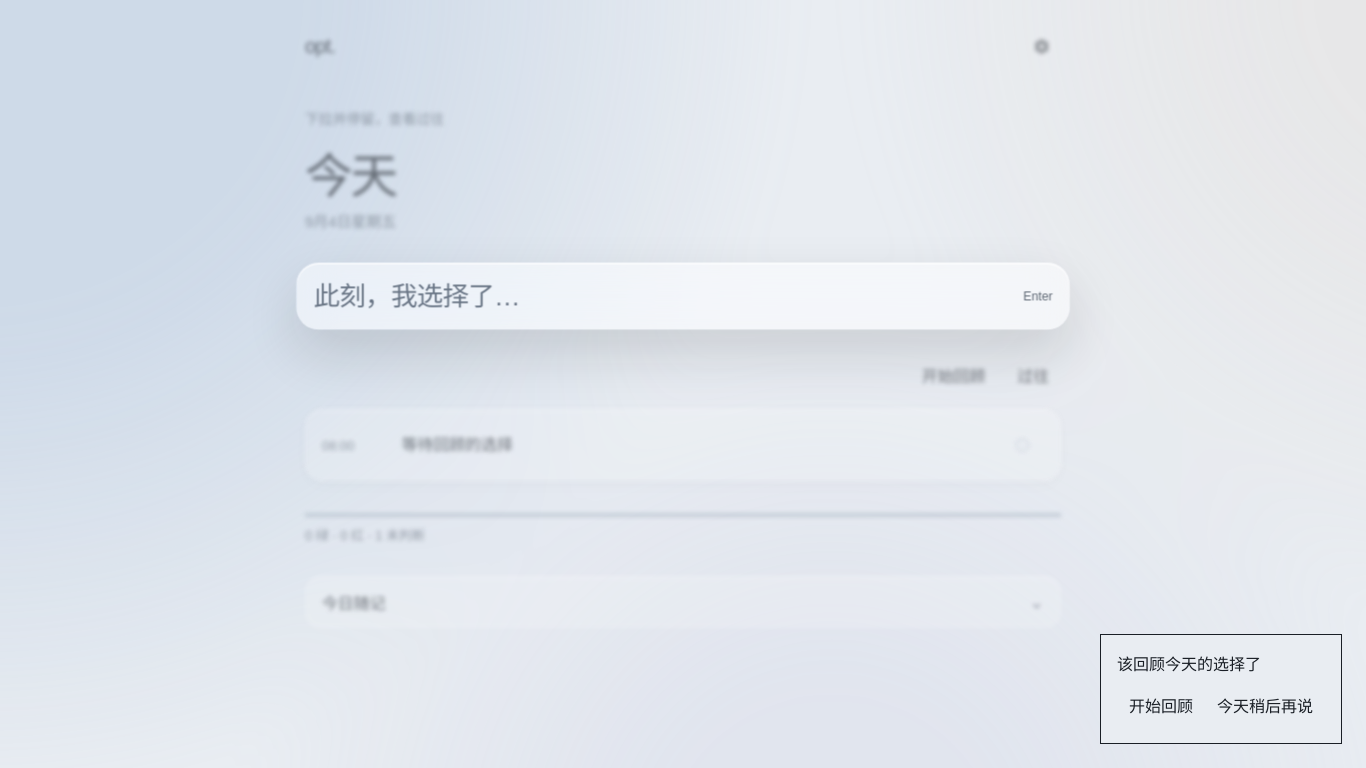
Test case: App › shows a due reminder that can start Review or be dismissed for today
Expected: the message shows "该回顾今天的选择了", [1117,656,1261,673]
What coordinates should you click on to do the following:
click the button "今天稍后再说"
I would click on:
 (1265, 705)
Its box is [1205,683,1325,727].
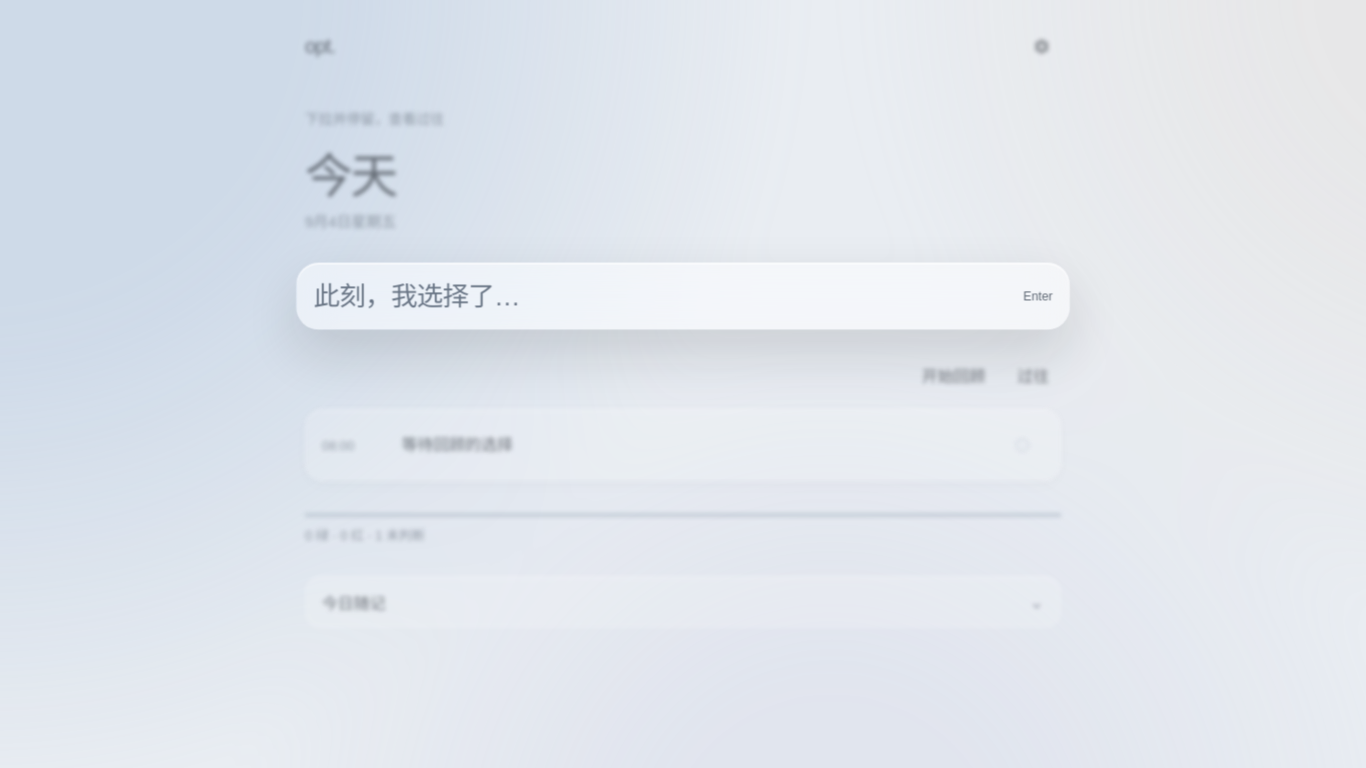
Now the text "该回顾今天的选择了" is gone
